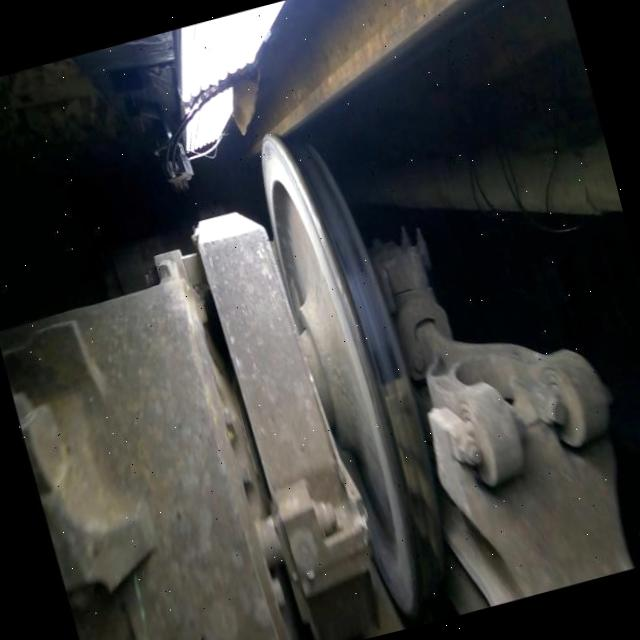Cracks-Scratches: (277, 143, 366, 350)
Discoloration: (296, 146, 350, 234), (330, 231, 368, 280), (368, 348, 398, 378)
Shelling: (381, 375, 431, 509), (410, 505, 437, 555)
Wheel: (260, 132, 442, 612)
